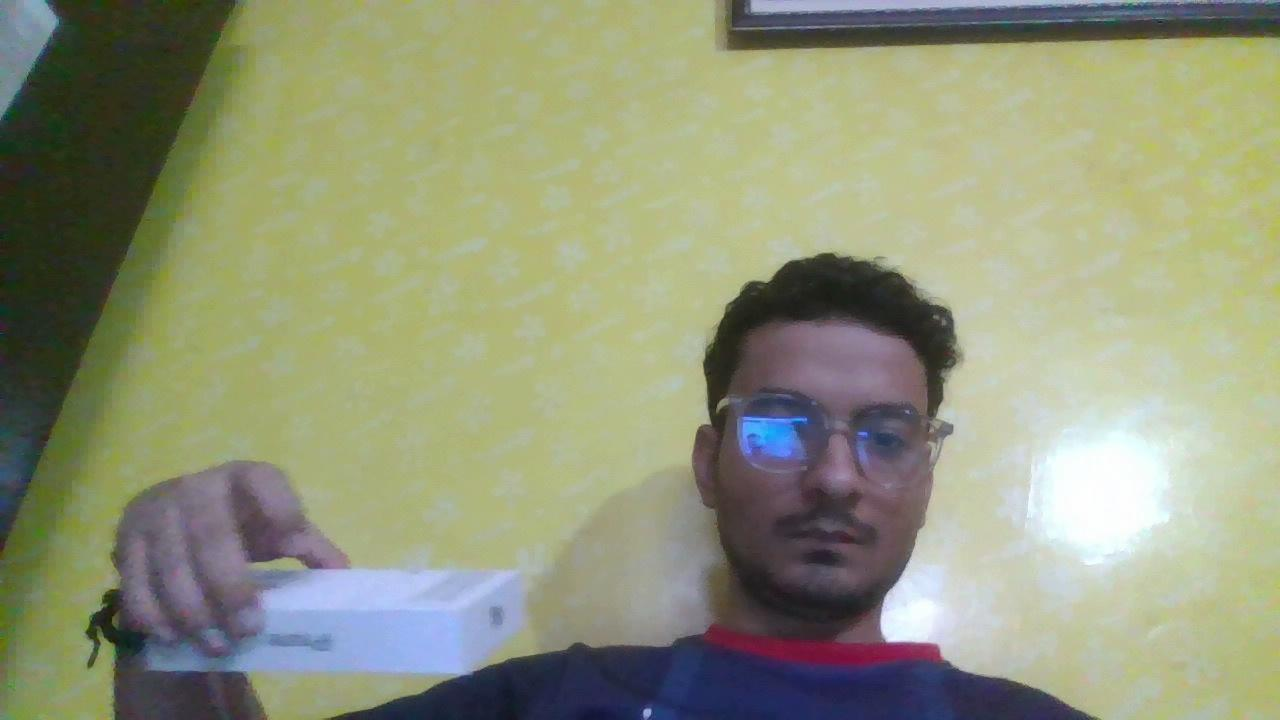4: (109, 507, 605, 716), (87, 527, 539, 701)
Phone: (136, 559, 170, 572)
